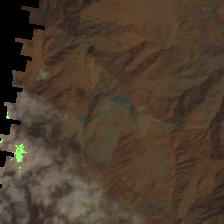landslides: (92, 40, 111, 53)
